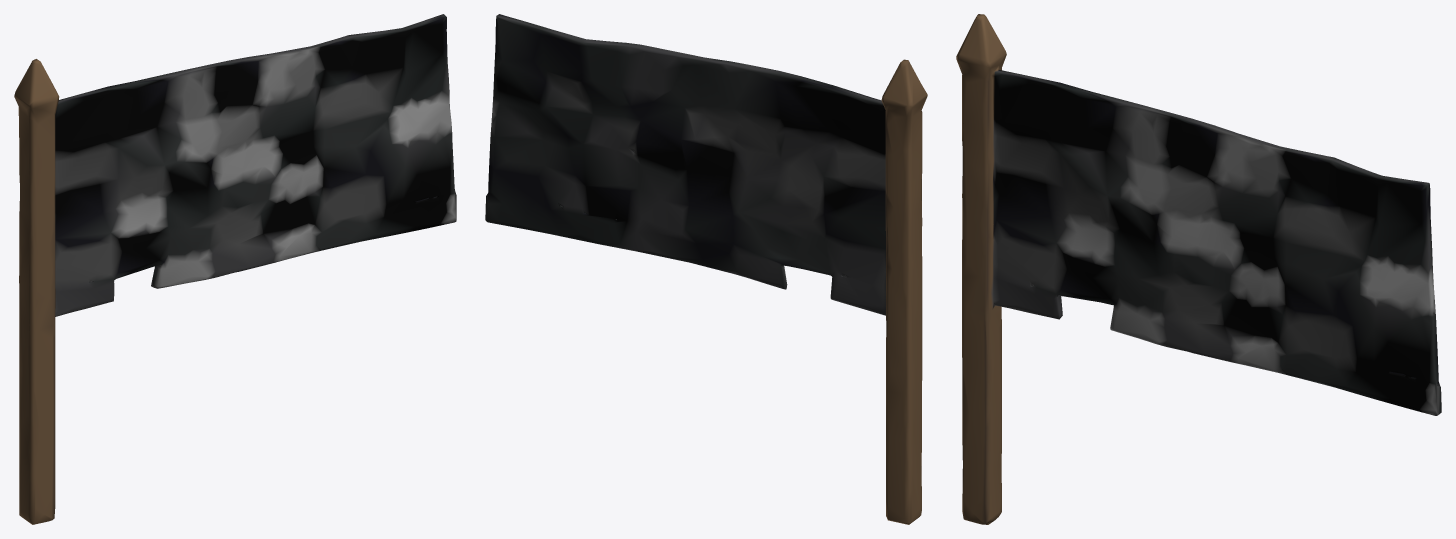
Rendered from gen3d-checkered-flag-lod0.glb.
The picture shows the model from 3 angles, left to right: view 1: azimuth 30°, elevation 25°; view 2: azimuth 150°, elevation 25°; view 3: azimuth 330°, elevation 25°; orthographic projection. The views are drawn at different scales.
Visible parts, largest first — view 1: part_0; view 2: part_0; view 3: part_0.
Part boxes in pixels (x1=…): part_0: x1=14, y1=14, x2=456, y2=524; part_0: x1=485, y1=14, x2=927, y2=524; part_0: x1=956, y1=14, x2=1441, y2=524.
Size of the model in its own units: 0.9898 by 0.9992 by 0.0728.
